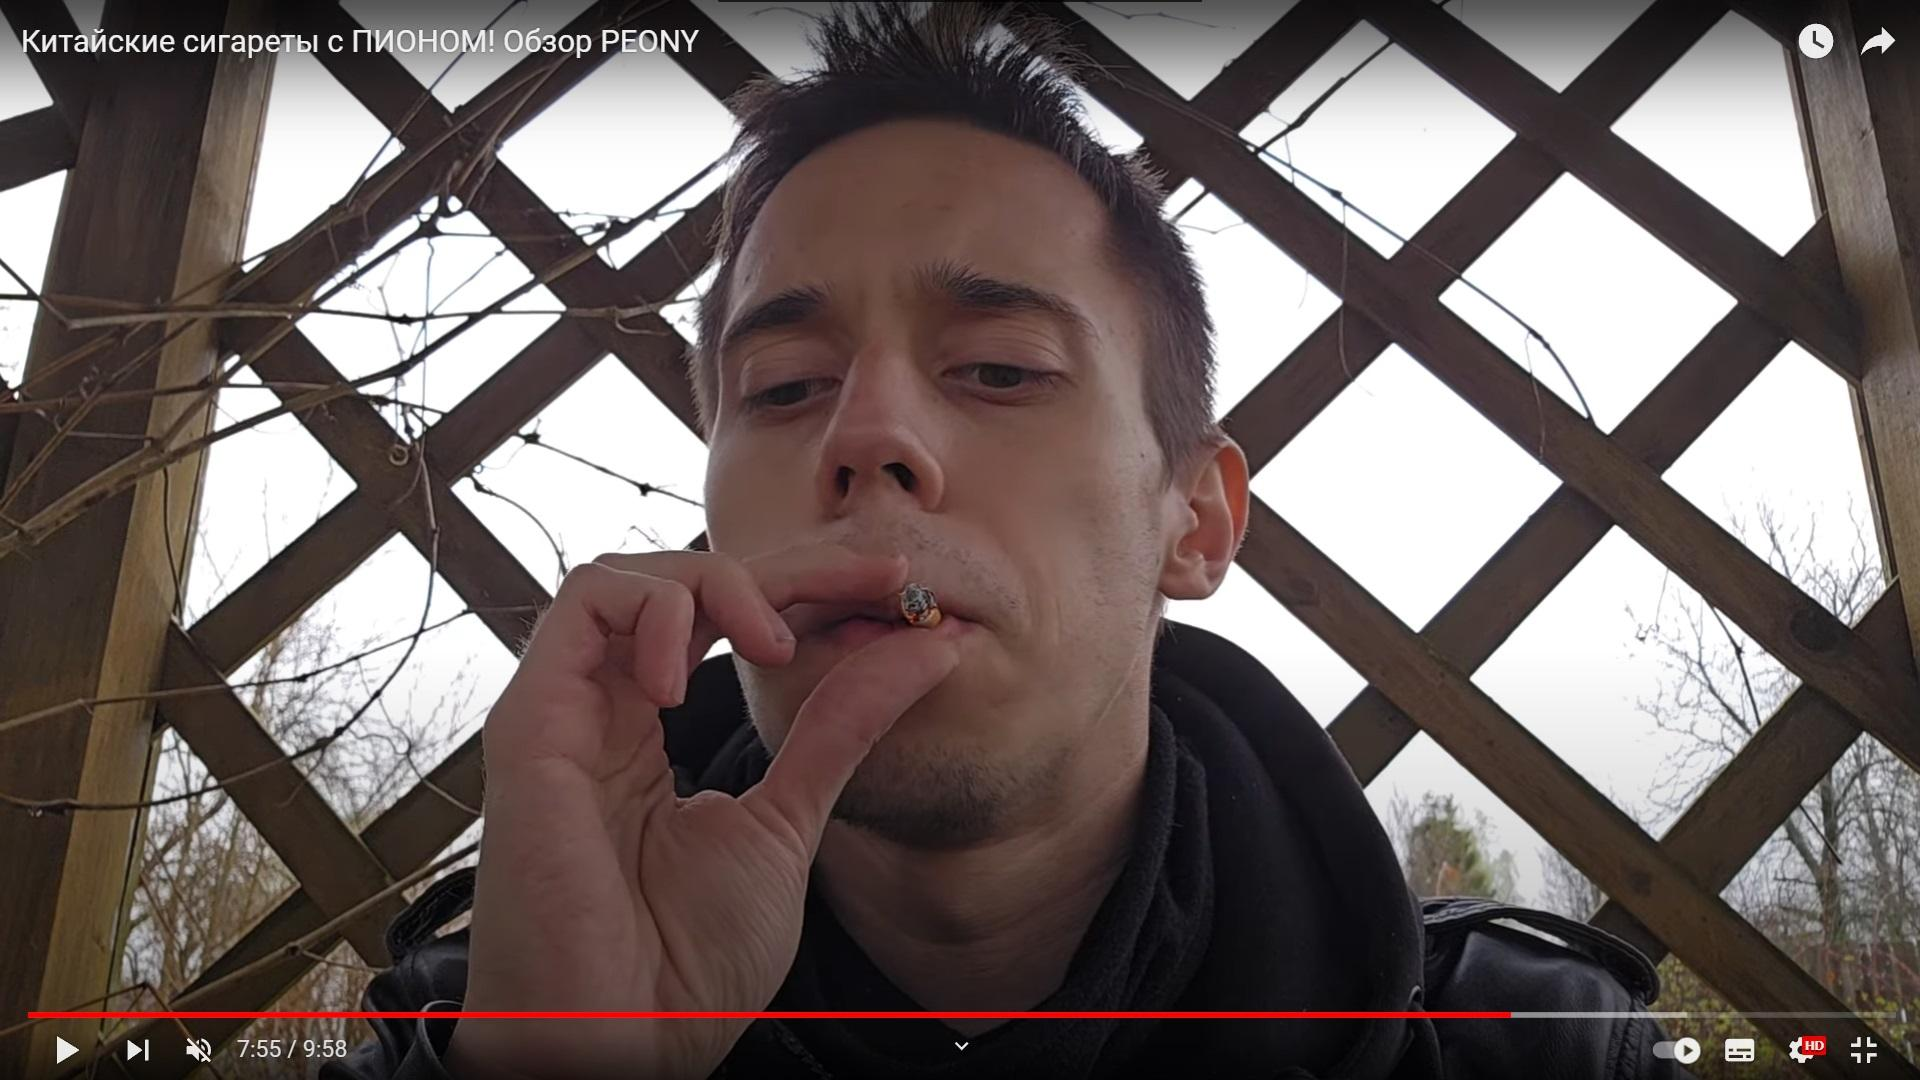cigarette: (901, 582, 943, 628)
